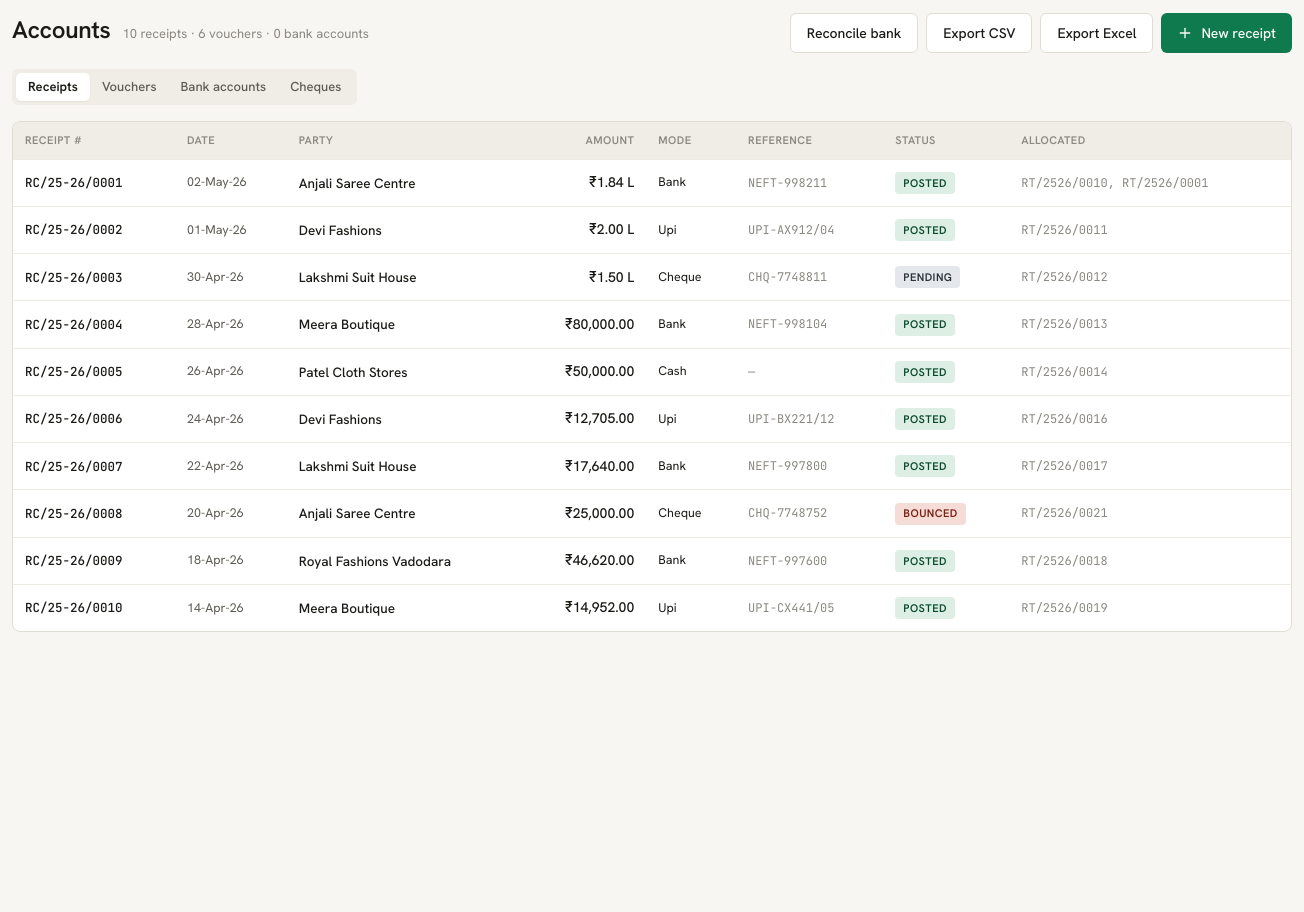
AccountingHub — Export buttons (TASK-CUT-501b) › Bank accounts tab shows Export CSV + Export Excel buttons
Expected: the text "RC/25-26/0001" is shown, [25,174,122,191]
// Wait for first render on Receipts tab.
Click the tab "Bank accounts": [223, 87] box [168,73,278,101]
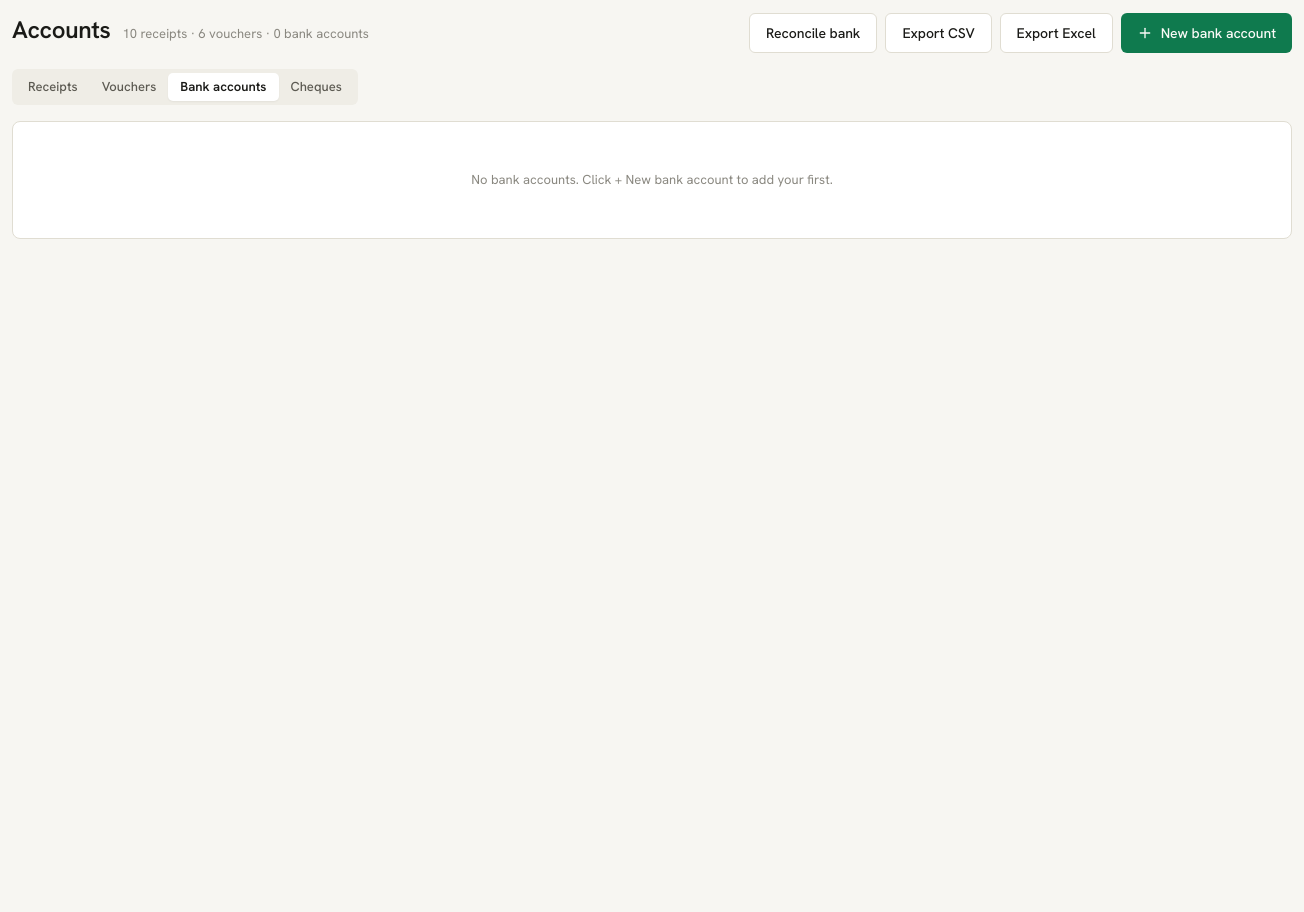
Expected: the button with aria-label "export bank-accounts to CSV" is shown
Expected: the button with aria-label "export bank-accounts to Excel" is shown, [1000,13,1113,53]
Click the button with aria-label "export bank-accounts to CSV": [938, 33] box [885,13,992,53]
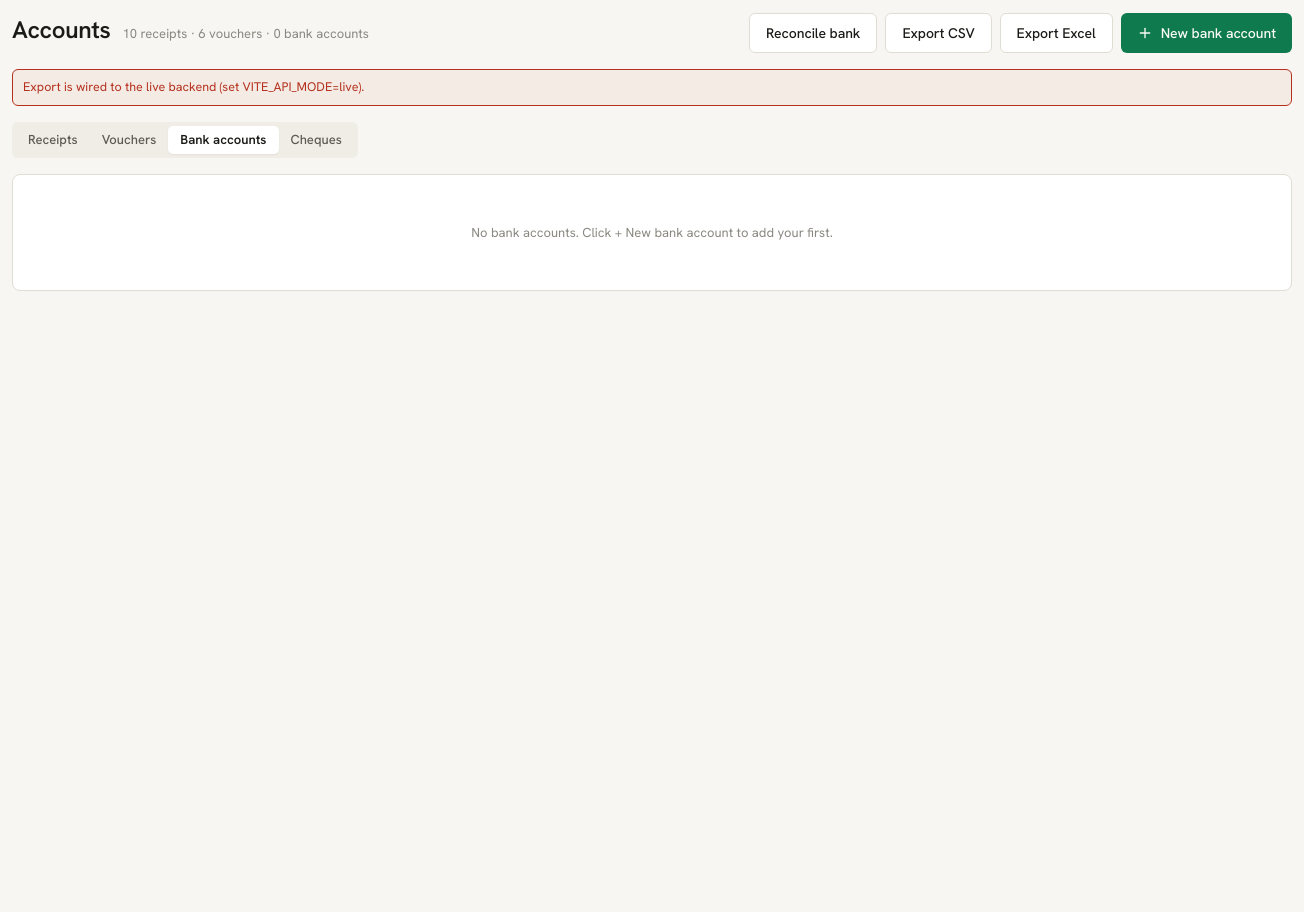
Expected: the message "Export is wired to the live backend (set VITE_API_MODE=live)." is shown, [12,69,1292,106]
